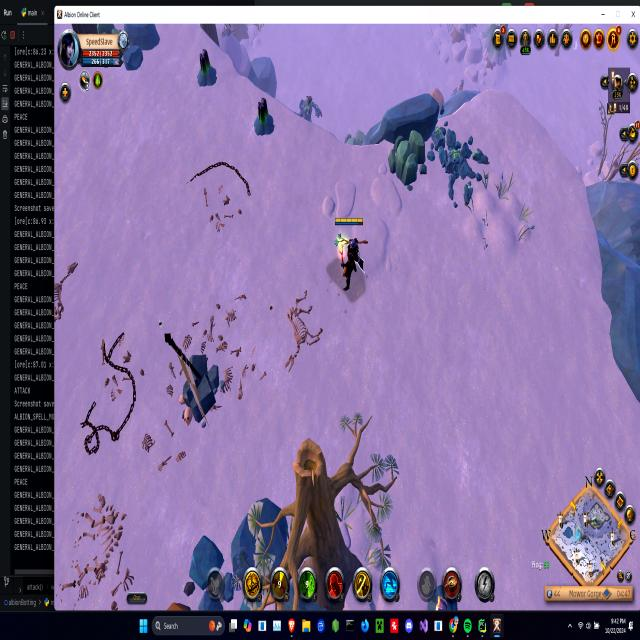player: (430, 110, 494, 222), (250, 92, 276, 143), (296, 89, 322, 134), (195, 46, 219, 91)
red: (330, 213, 370, 296)
tree: (385, 132, 426, 192)
